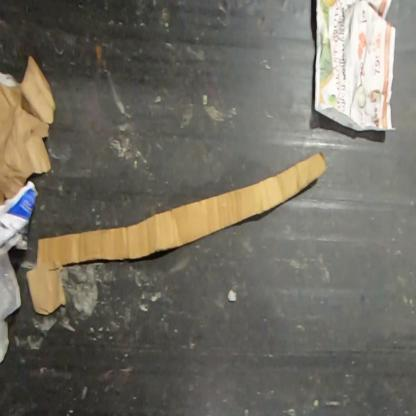cardboard: (25, 151, 326, 316), (0, 53, 57, 206)
rigid_plastic: (0, 252, 23, 364)
